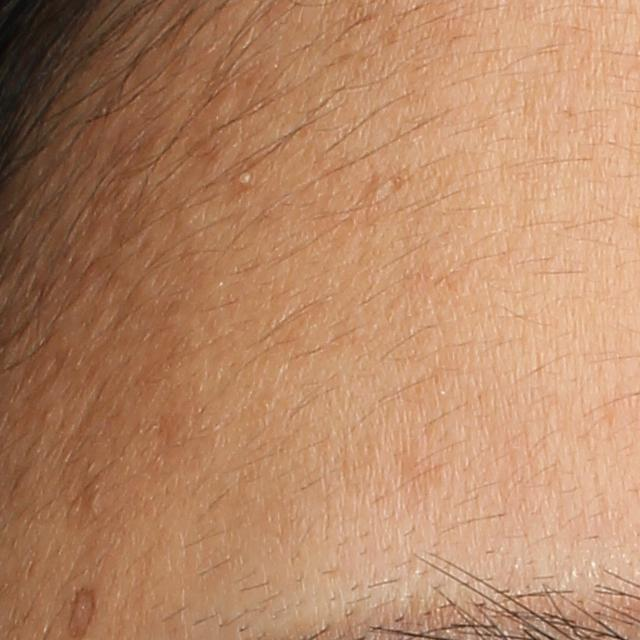comedo: (233, 167, 261, 190)
other: (66, 585, 96, 639)
